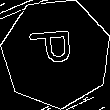P_E: (29, 33, 83, 74)
